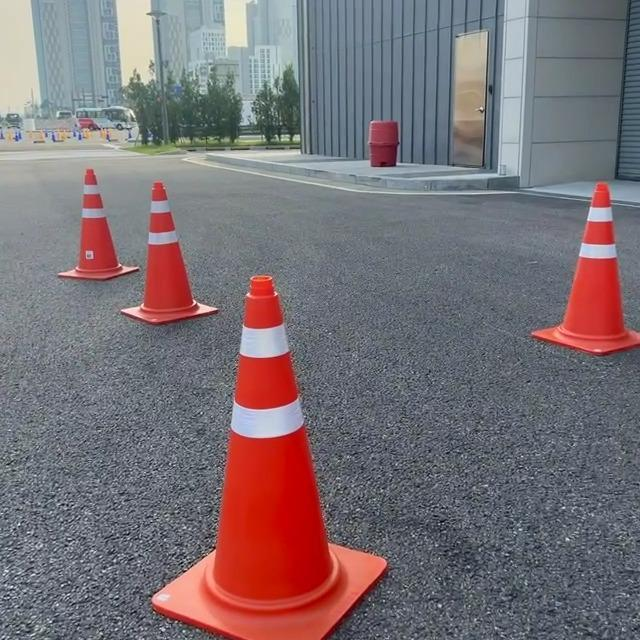fallen_object: (192, 259, 340, 630), (510, 153, 636, 392), (30, 117, 146, 277), (125, 165, 212, 331)
